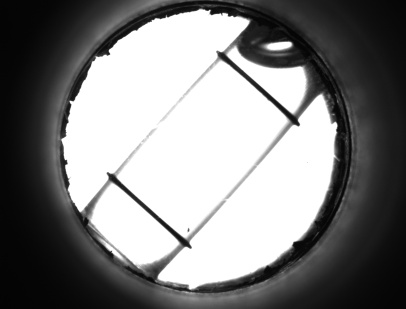line: (119, 193, 179, 227), (234, 76, 290, 104)
